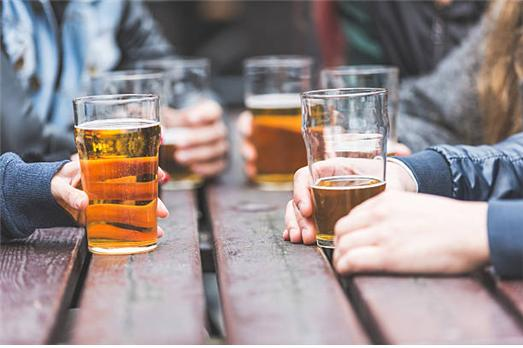alcohol: (70, 96, 161, 254), (298, 87, 383, 249), (243, 56, 301, 186), (322, 66, 397, 157), (159, 59, 211, 187), (93, 70, 162, 133)
